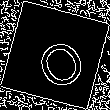O_NW: (24, 22, 86, 88)
